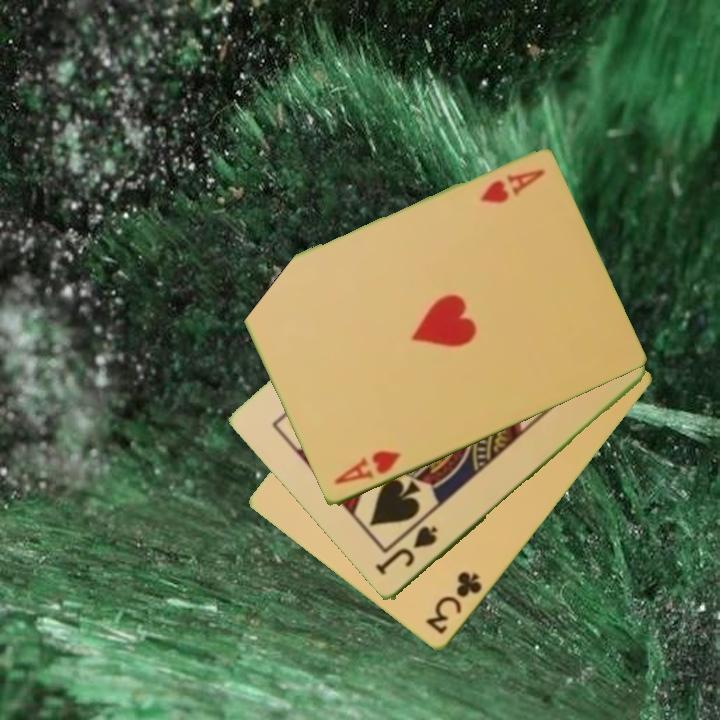3c: (422, 568, 486, 638)
Ah: (331, 447, 404, 488), (476, 166, 549, 207)
Js: (373, 522, 441, 579)
